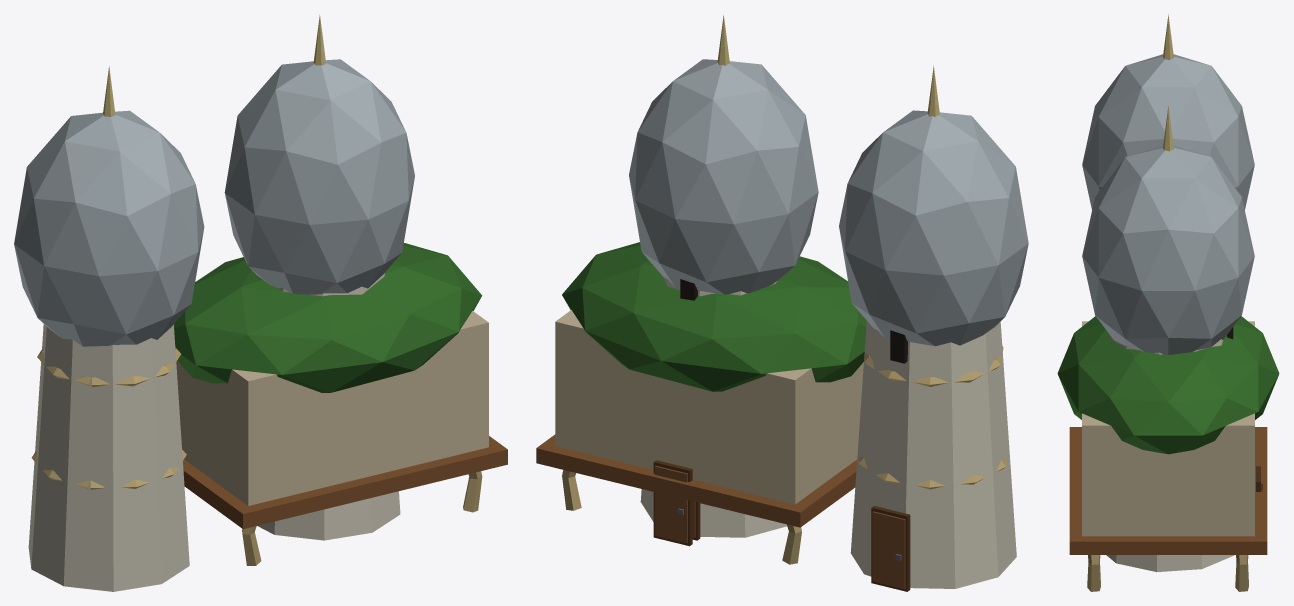
The model's file is elf_row.glb.
3 views of the same model, side by side, from view 1: azimuth 30°, elevation 25°; view 2: azimuth 150°, elevation 25°; view 3: azimuth 270°, elevation 25° (orthographic). The views are drawn at different scales.
Visible parts, largest first — view 1: elf_row; view 2: elf_row; view 3: elf_row.
Part boxes in pixels (left/top/right/bottom): elf_row: left=14, top=15, right=507, bottom=591; elf_row: left=536, top=15, right=1028, bottom=591; elf_row: left=1057, top=14, right=1279, bottom=591.
Bounding box in the file's own units: 2.34 × 2.54 × 1.17.
